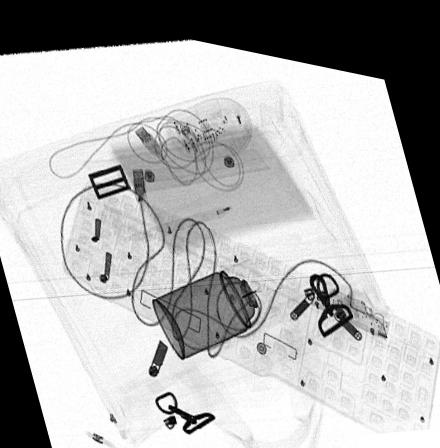Sprayer: (151, 247, 278, 352)
